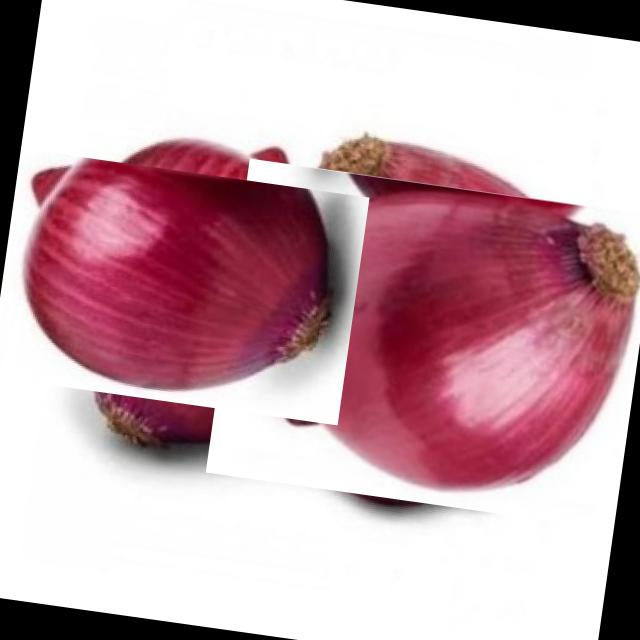Onion: (226, 138, 640, 551), (3, 118, 341, 456)
